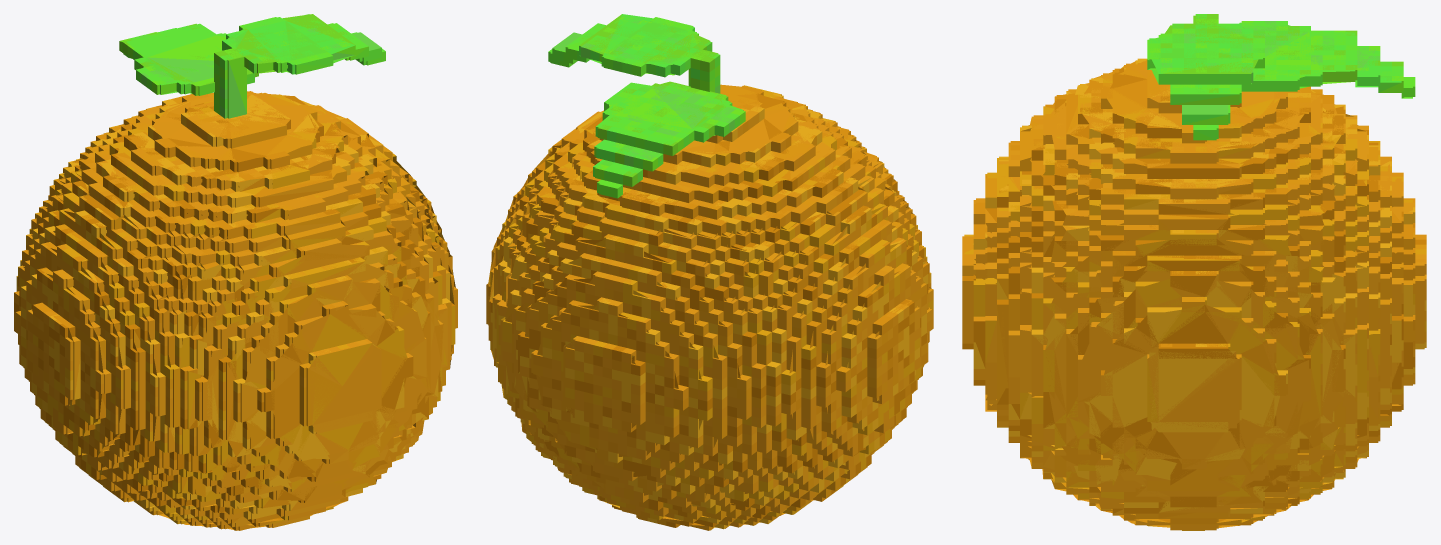
The model's file is quytWithLODS.fbx.
3 renders of one model, left to right at view 1: azimuth 30°, elevation 25°; view 2: azimuth 150°, elevation 25°; view 3: azimuth 270°, elevation 25°, orthographic. The views are drawn at different scales.
Visible parts, largest first — view 1: quyt_LOD2, quyt_LOD1, quyt_LOD3, quyt_LOD4; view 2: quyt_LOD1, quyt_LOD2, quyt_LOD4, quyt_LOD3; view 3: quyt_LOD2, quyt_LOD3, quyt_LOD1, quyt_LOD4.
Boxes of the visible parts, left/top/right/bottom form: quyt_LOD2: left=18, top=14, right=457, bottom=530; quyt_LOD1: left=14, top=14, right=442, bottom=530; quyt_LOD3: left=32, top=23, right=454, bottom=530; quyt_LOD4: left=32, top=14, right=455, bottom=529; quyt_LOD1: left=488, top=15, right=933, bottom=530; quyt_LOD2: left=486, top=14, right=931, bottom=517; quyt_LOD4: left=488, top=14, right=929, bottom=527; quyt_LOD3: left=487, top=18, right=928, bottom=527; quyt_LOD2: left=962, top=15, right=1424, bottom=530; quyt_LOD3: left=974, top=25, right=1412, bottom=530; quyt_LOD1: left=964, top=14, right=1426, bottom=528; quyt_LOD4: left=962, top=17, right=1424, bottom=527.
Size of the model in its own units: 403 by 460 by 402.
